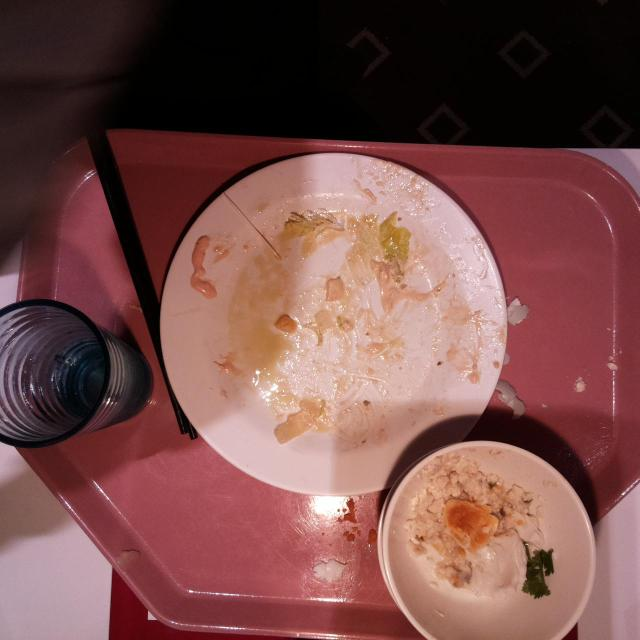Vegetable: (379, 212, 411, 270), (522, 548, 554, 598)
